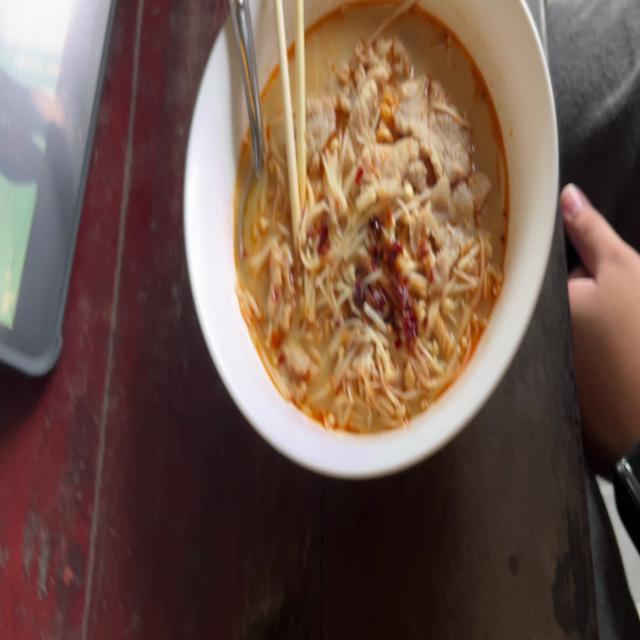noodle: (228, 3, 522, 444)
